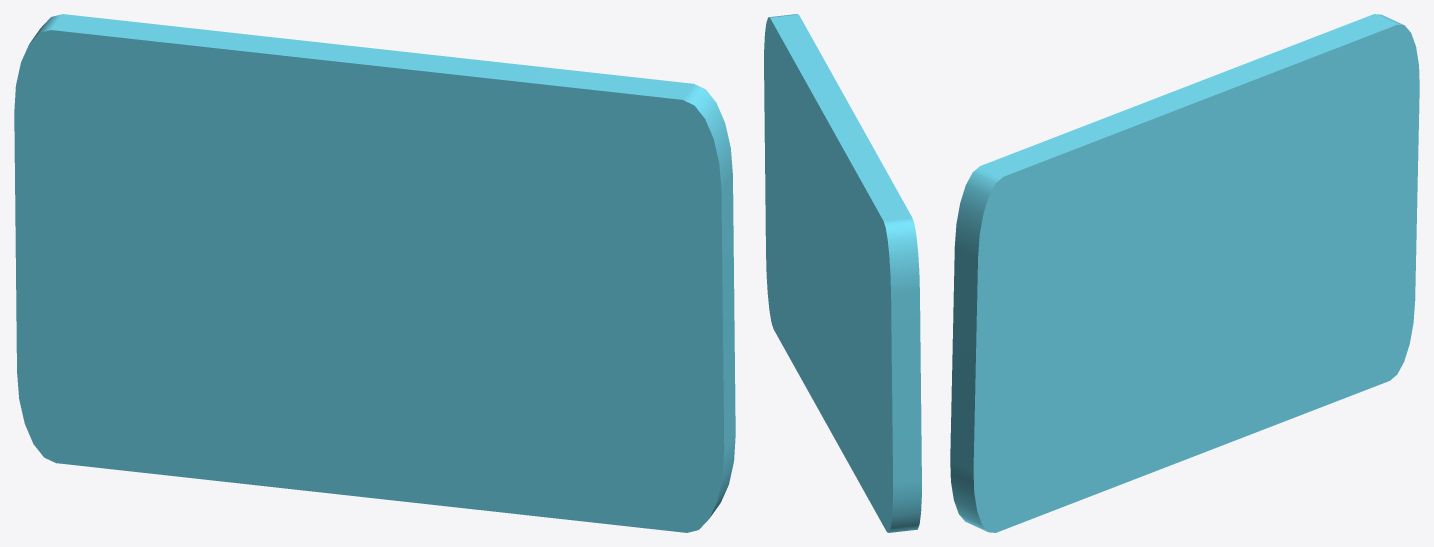
The model's file is Modulo2-7.fbx.
3 renders of one model, left to right at view 1: azimuth 30°, elevation 25°; view 2: azimuth 150°, elevation 25°; view 3: azimuth 270°, elevation 25°, orthographic. The views are drawn at different scales.
Visible parts, largest first — view 1: pCube18; view 2: pCube18; view 3: pCube18.
Part boxes in pixels (x1,y1,x2,y2): pCube18: [14, 14, 735, 532]; pCube18: [764, 14, 921, 532]; pCube18: [950, 14, 1419, 532].
Size of the model in its own units: 1.53 by 1.37 by 1.61.
